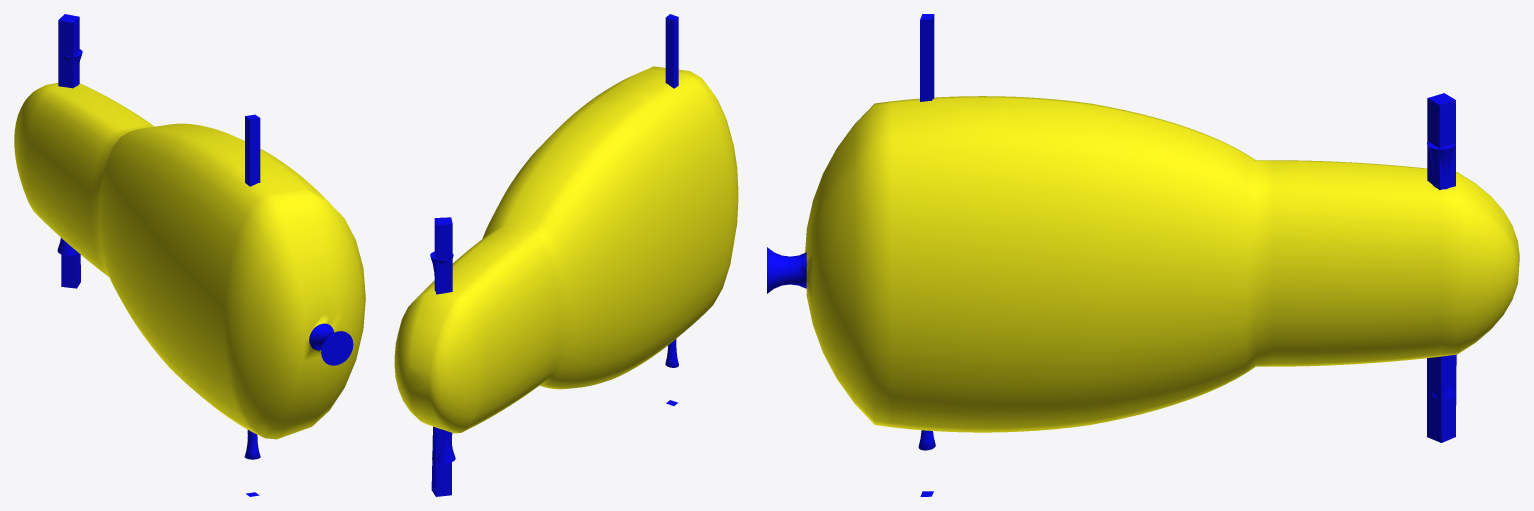
The model's file is body1.obj.
The picture shows the model from 3 angles, left to right: view 1: azimuth 30°, elevation 25°; view 2: azimuth 150°, elevation 25°; view 3: azimuth 270°, elevation 25°; orthographic projection. The views are drawn at different scales.
Parts seen in each view (by area): view 1: Mesh4 Model, Mesh3 Component_8_1 Model, Mesh1 Component_13_1 Model; view 2: Mesh4 Model, Mesh3 Component_8_1 Model, Mesh1 Component_13_1 Model; view 3: Mesh4 Model, Mesh3 Component_8_1 Model, Mesh1 Component_13_1 Model.
Boxes of the visible parts, x1=… form: Mesh4 Model: x1=14, y1=49, x2=365, y2=439; Mesh3 Component_8_1 Model: x1=57, y1=14, x2=79, y2=255; Mesh1 Component_13_1 Model: x1=244, y1=114, x2=260, y2=459; Mesh4 Model: x1=394, y1=66, x2=738, y2=496; Mesh3 Component_8_1 Model: x1=432, y1=217, x2=455, y2=463; Mesh1 Component_13_1 Model: x1=665, y1=14, x2=678, y2=367; Mesh4 Model: x1=767, y1=96, x2=1519, y2=442; Mesh3 Component_8_1 Model: x1=1427, y1=93, x2=1455, y2=398; Mesh1 Component_13_1 Model: x1=918, y1=14, x2=935, y2=450.
Bounding box in the file's own units: 0.0917 × 0.2356 × 0.3368.
